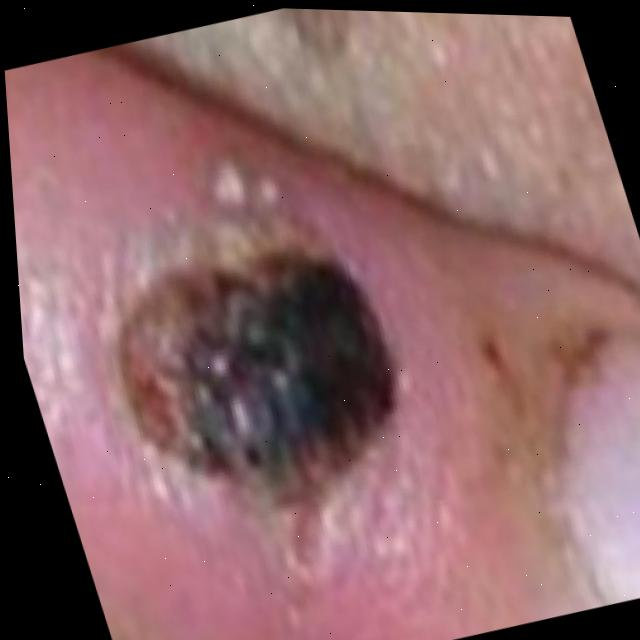Eczema: (112, 249, 387, 471)
